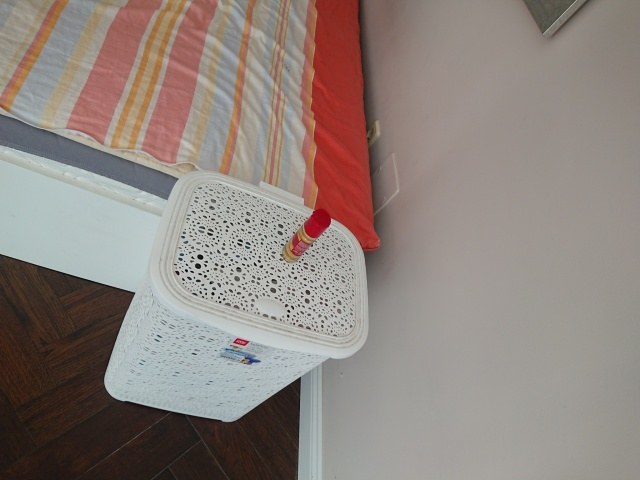Kotanyi Curry Spices Mix 70g: (279, 207, 333, 267)
